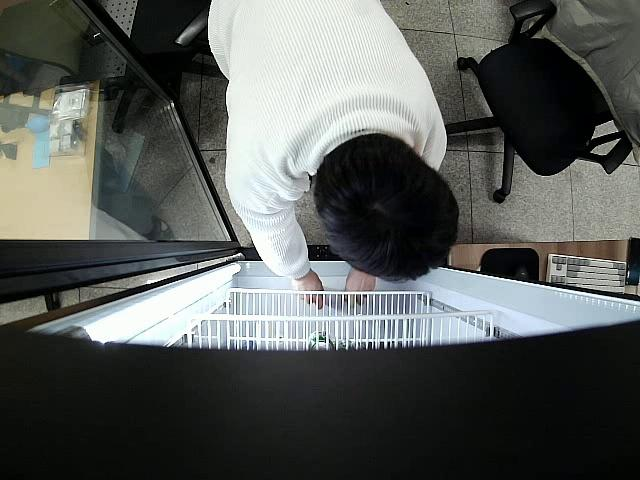00_hand: (344, 273, 377, 310), (293, 276, 326, 310)
